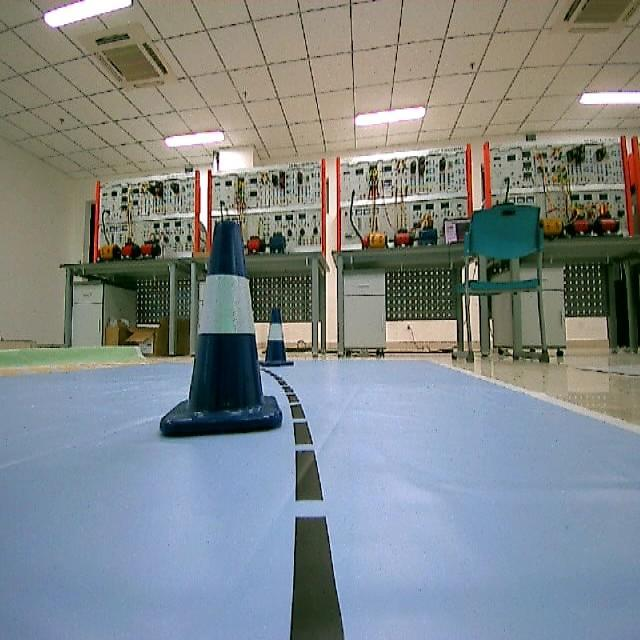obstacle: (160, 212, 282, 436), (261, 304, 294, 372)
